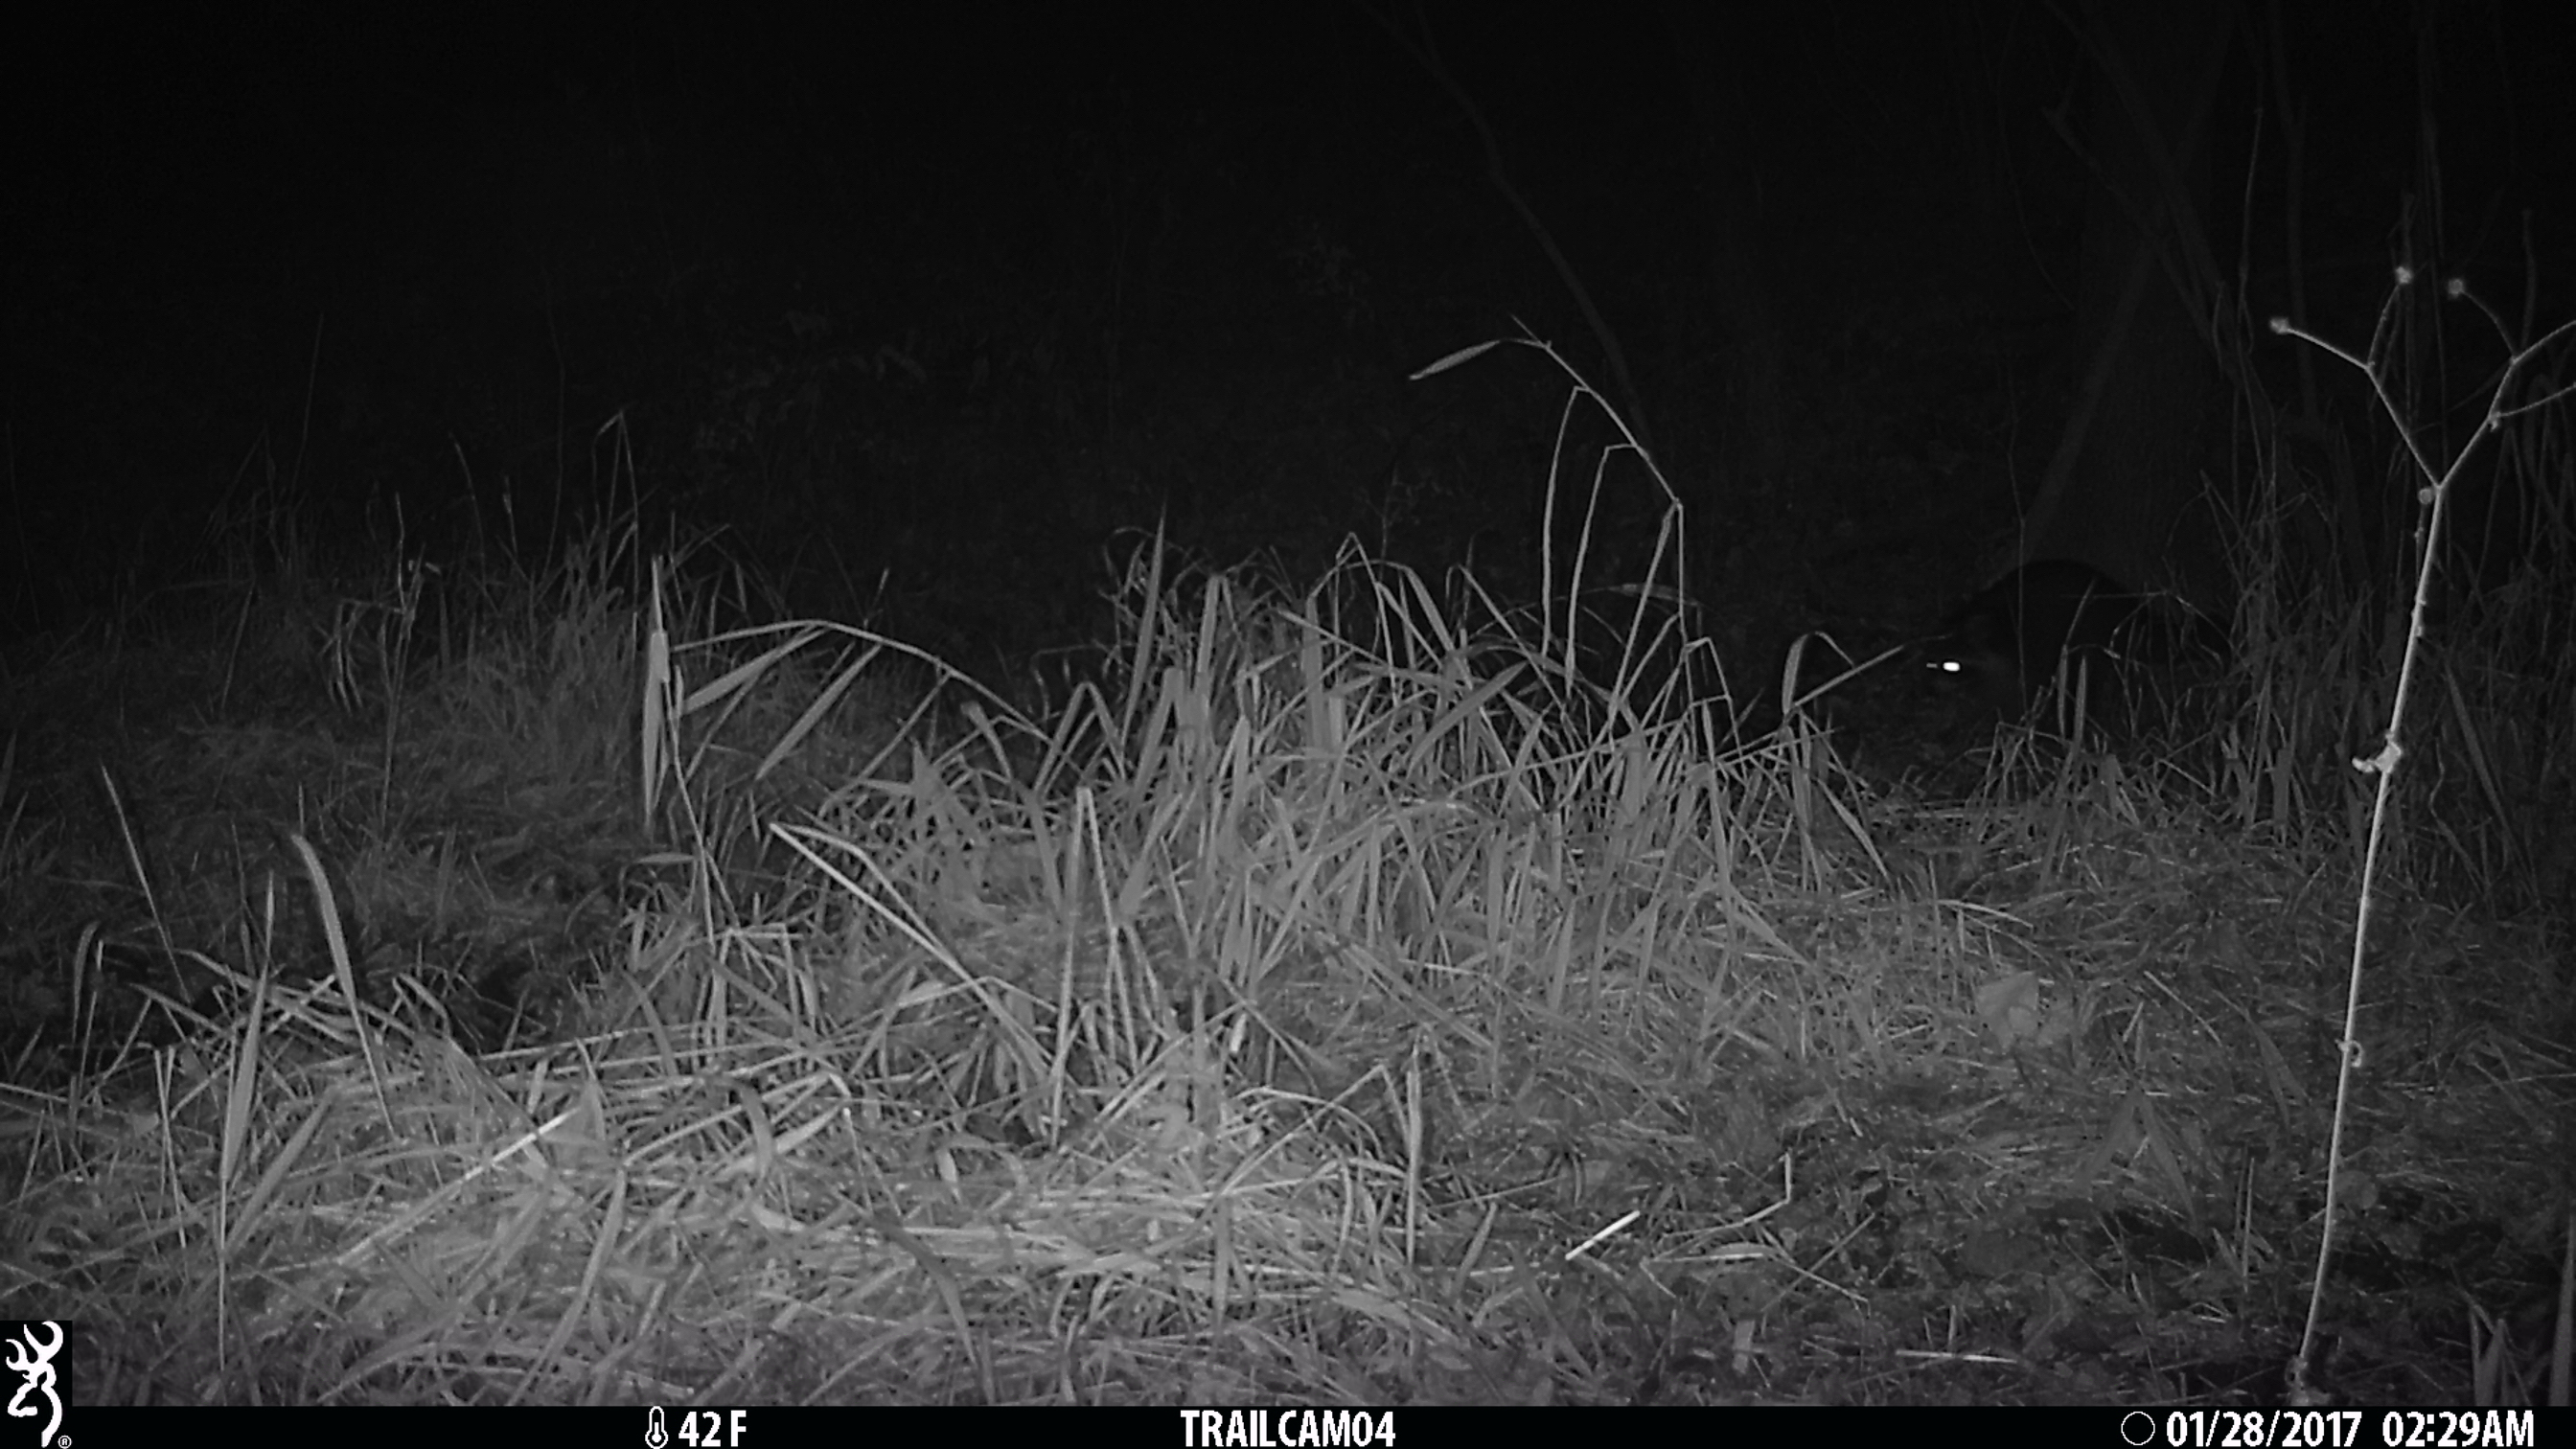Raccoon: (1918, 563, 2183, 722)
